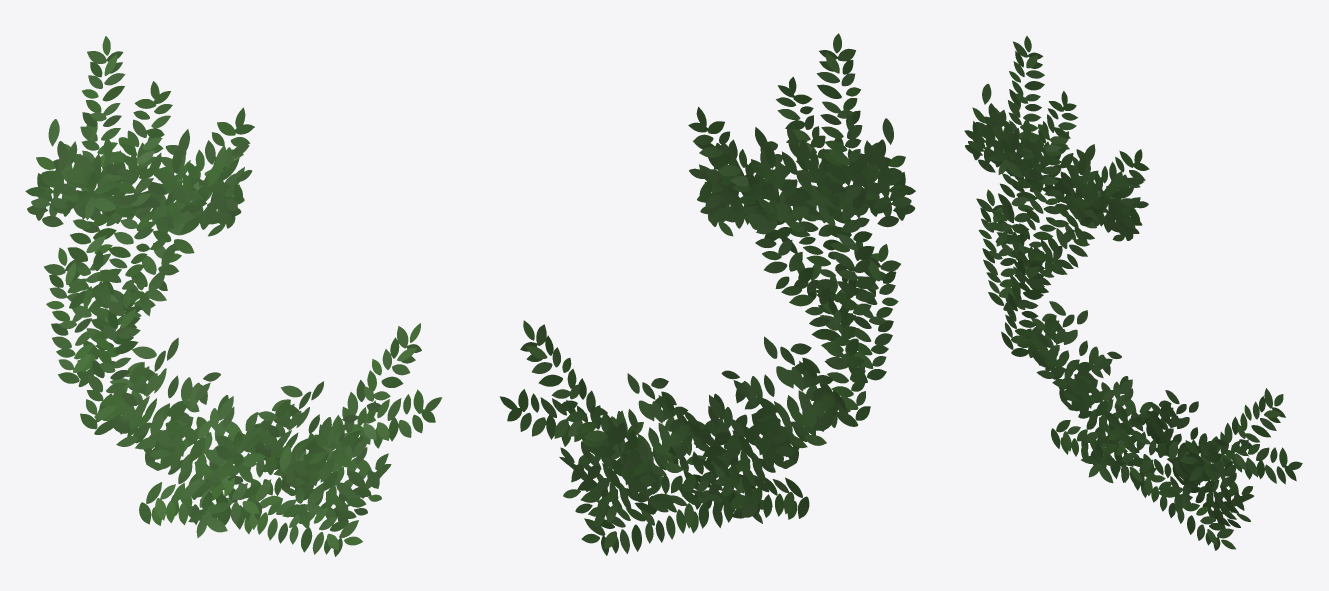
File: SM_Env_Vine_Creeping_03.fbx
3 views of the same model, side by side, from view 1: azimuth 30°, elevation 25°; view 2: azimuth 150°, elevation 25°; view 3: azimuth 330°, elevation 25° (orthographic). The views are drawn at different scales.
Parts seen in each view (by area): view 1: SM_Env_Vine_Creeping_03_LOD0; view 2: SM_Env_Vine_Creeping_03_LOD0; view 3: SM_Env_Vine_Creeping_03_LOD0.
Part boxes in pixels (left/top/right/bottom): SM_Env_Vine_Creeping_03_LOD0: left=25, top=36, right=442, bottom=556; SM_Env_Vine_Creeping_03_LOD0: left=499, top=33, right=915, bottom=555; SM_Env_Vine_Creeping_03_LOD0: left=964, top=36, right=1302, bottom=550.
Size of what is drawn, in the model's own units: 262 by 351 by 14.94.
